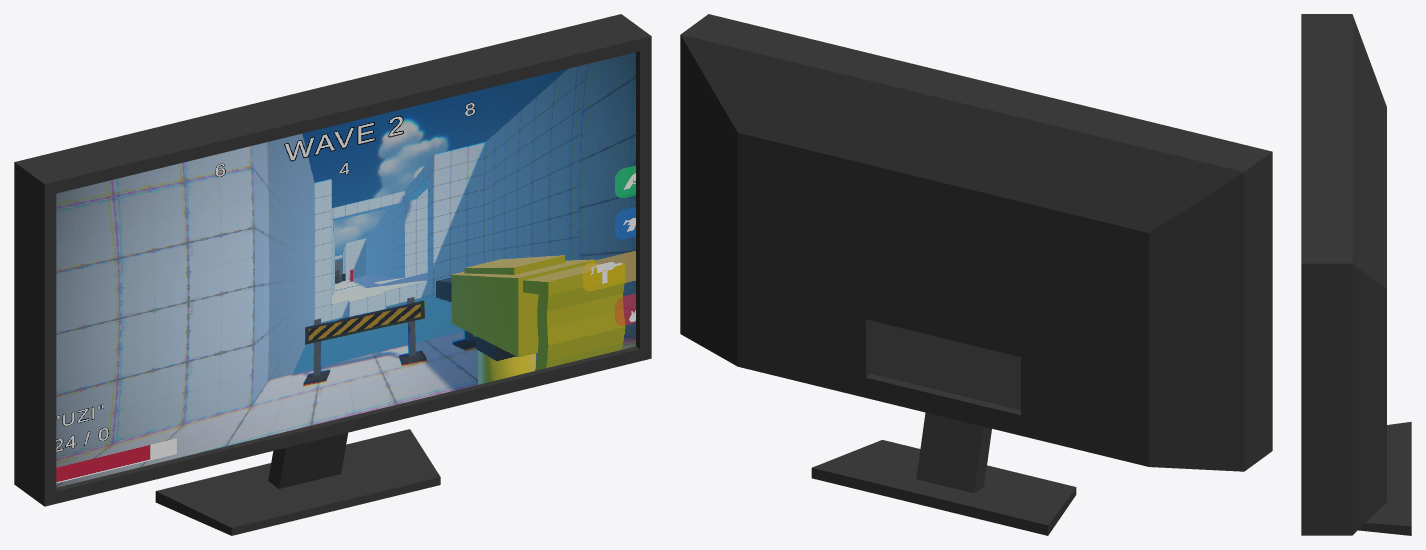
3 renders of one model, left to right at view 1: azimuth 30°, elevation 25°; view 2: azimuth 150°, elevation 25°; view 3: azimuth 270°, elevation 25°, orthographic. The views are drawn at different scales.
Parts seen in each view (by area): view 1: Monitor 1; view 2: Monitor 1; view 3: Monitor 1.
Boxes of the visible parts, box(x1,y1,x2,y2) form: Monitor 1: box(14, 14, 651, 535); Monitor 1: box(680, 14, 1272, 535); Monitor 1: box(1301, 14, 1411, 535).
Bounding box in the file's own units: 0.8207 × 0.5285 × 0.1528.
Materials: 2 (2 with a texture image).
